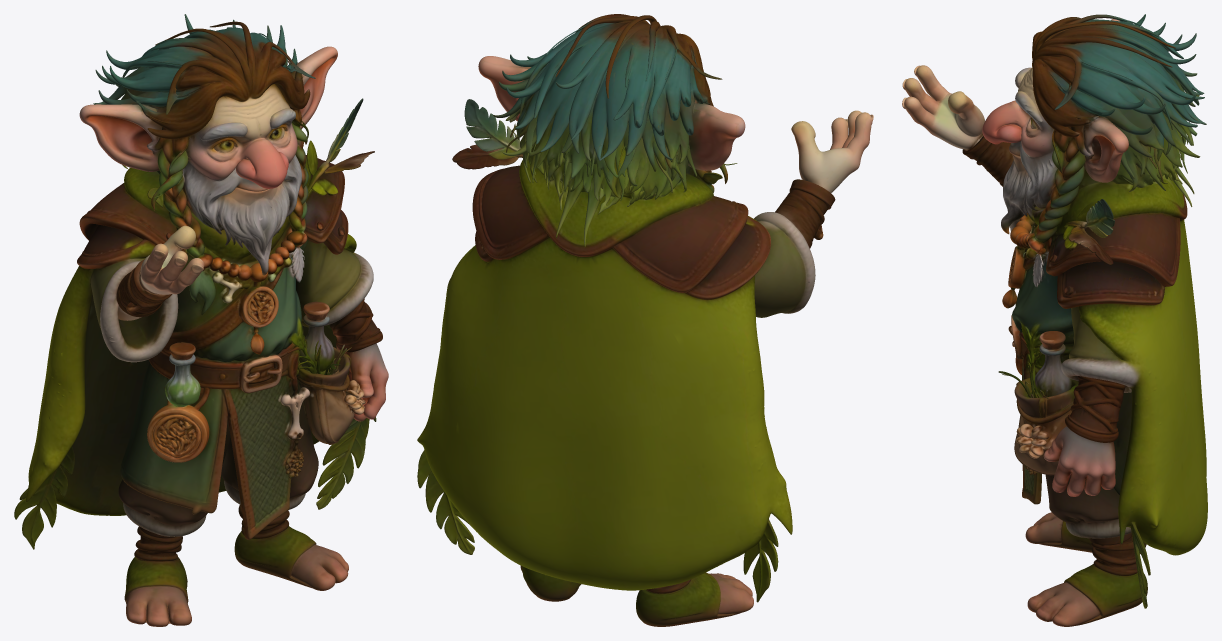
Rendered from gnome_druid_full_male_01.glb.
The picture shows the model from 3 angles, left to right: view 1: azimuth 30°, elevation 25°; view 2: azimuth 150°, elevation 25°; view 3: azimuth 270°, elevation 25°; orthographic projection. The views are drawn at different scales.
Visible parts, largest first — view 1: material; view 2: material; view 3: material.
Boxes of the visible parts, box(x1,y1,x2,y2) form: material: box(14, 14, 388, 626); material: box(417, 14, 873, 626); material: box(902, 14, 1207, 626).
Bounding box in the file's own units: 0.7435 × 1.12 × 0.5616.
1 material, 1 textured.
